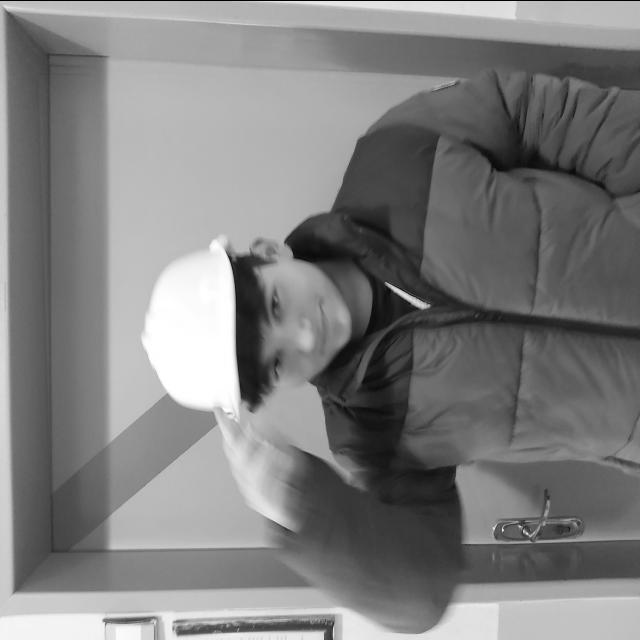safety_helmet: (144, 233, 244, 418)
